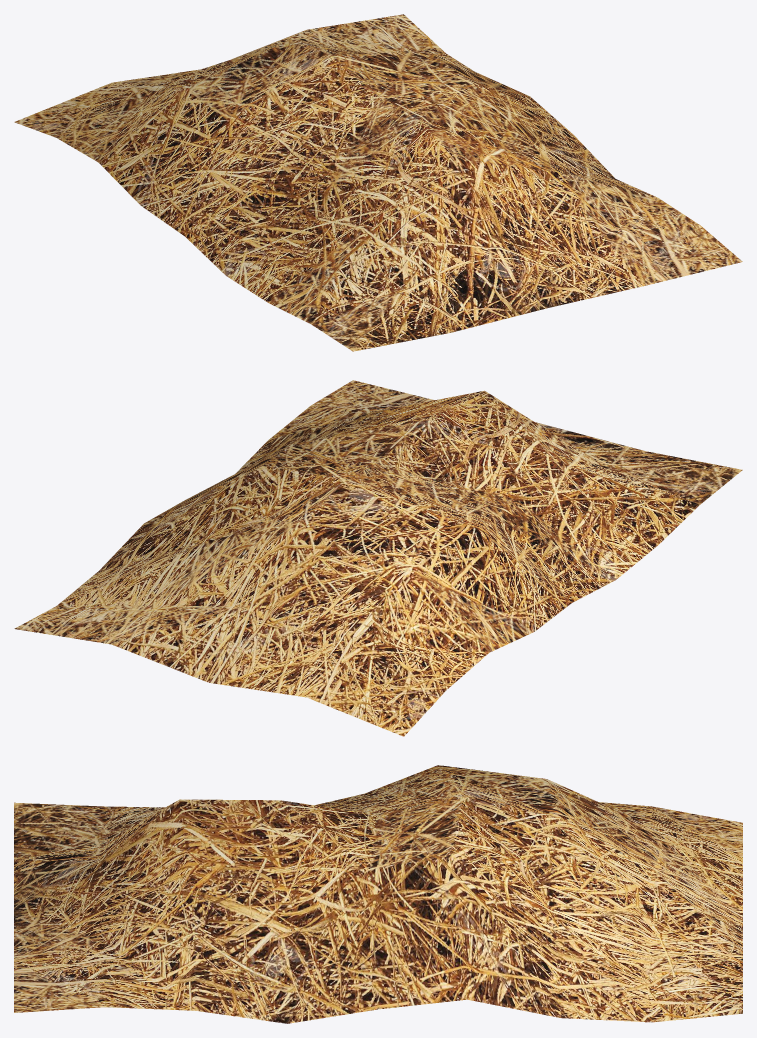
Rendered from Heuhaufen_1.fbx.
3 renders of one model, top to bottom at view 1: azimuth 30°, elevation 25°; view 2: azimuth 150°, elevation 25°; view 3: azimuth 270°, elevation 25°, orthographic. The views are drawn at different scales.
Visible parts, largest first — view 1: 14399672-texture-of-straw-on-the-floor; view 2: 14399672-texture-of-straw-on-the-floor; view 3: 14399672-texture-of-straw-on-the-floor.
Boxes of the visible parts, x1,y1,x2,y2 form: 14399672-texture-of-straw-on-the-floor: (14, 14, 742, 351); 14399672-texture-of-straw-on-the-floor: (14, 380, 742, 736); 14399672-texture-of-straw-on-the-floor: (14, 765, 742, 1023).
Bounding box in the file's own units: 101 × 28.31 × 151.
